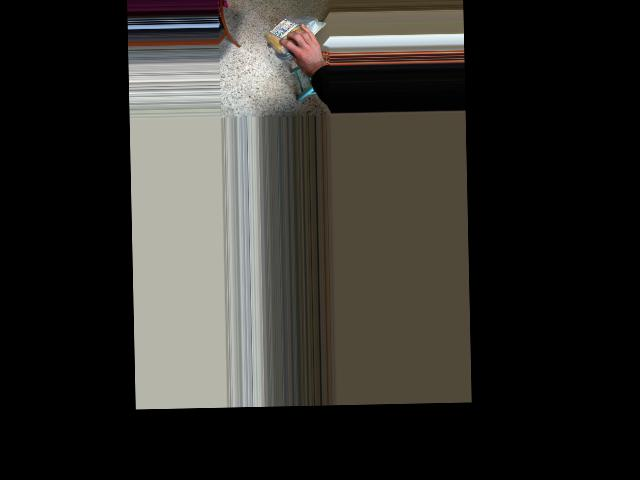cheese: (256, 17, 326, 48)
